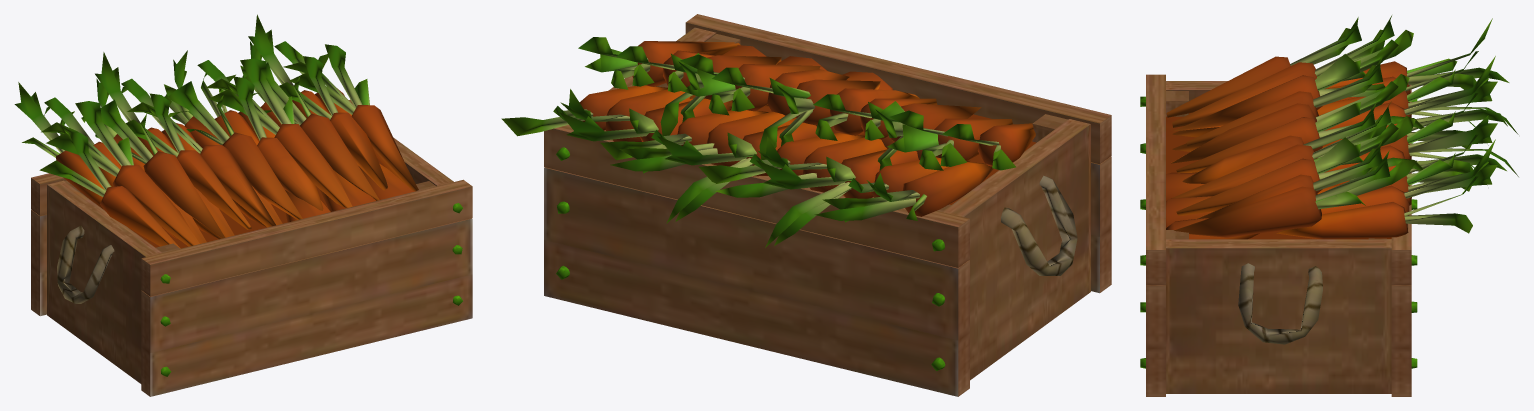
Rendered from FarmCrate_Carrot.gltf.
The picture shows the model from 3 angles, left to right: view 1: azimuth 30°, elevation 25°; view 2: azimuth 150°, elevation 25°; view 3: azimuth 270°, elevation 25°; orthographic projection. The views are drawn at different scales.
Parts seen in each view (by area): view 1: FarmCrate_Carrot; view 2: FarmCrate_Carrot; view 3: FarmCrate_Carrot.
Boxes of the visible parts, x1=… form: FarmCrate_Carrot: x1=14, y1=14, x2=472, y2=396; FarmCrate_Carrot: x1=501, y1=14, x2=1111, y2=396; FarmCrate_Carrot: x1=1140, y1=15, x2=1518, y2=396.
Bounding box in the file's own units: 0.7112 × 0.3813 × 0.567.
3 materials, 3 textured.
